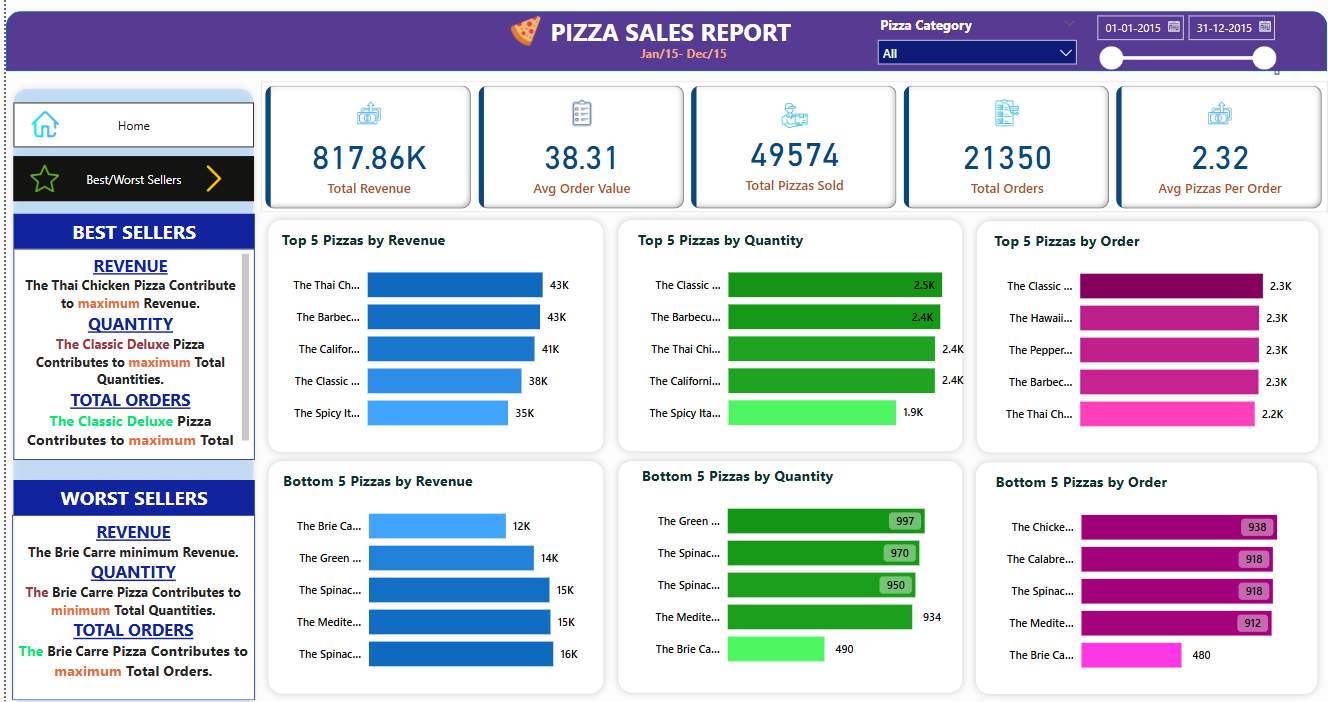

This screenshot's page, from the dashboard's own definition file:
{"tool":"powerbi","page":{"name":"Best/Worst Sellers","canvas":[1500,820],"ordinal":1},"visuals":[{"type":"shape","box":[0,96.1,284.1,706.1],"z":0},{"type":"cardVisual","fields":{"Data":["pizza_sales.Total Revenue","pizza_sales.Avg Order Value","pizza_sales.Total Pizzas Sold","pizza_sales.Total Orders","pizza_sales.Avg Pizzas Per Order"]},"box":[284.3,95.7,1187.1,147.1],"z":1000},{"type":"shape","box":[0,18.1,1472.1,66.8],"z":2000},{"type":"textbox","box":[601.4,18.6,305.7,45.7],"z":3000},{"type":"textbox","box":[674.3,51.4,161.4,32.9],"z":4000},{"type":"image","box":[535.7,18.6,85.7,44.3],"z":5000},{"type":"shape","box":[284.1,242.3,389.9,275.7],"z":6000},{"type":"textbox","box":[8.4,243.7,268.8,39],"z":7000},{"type":"textbox","box":[8.4,282.7,268.8,235.4],"z":8000},{"type":"textbox","box":[7,579.4,270.2,206.1],"z":9000},{"type":"textbox","box":[8.4,540.4,268.8,39],"z":10000},{"type":"slicer","fields":{"Values":["pizza_sales.pizza_category"]},"box":[960.9,18.1,242.3,66.8],"z":11000},{"type":"slicer","fields":{"Values":["pizza_sales.order_date"]},"box":[1203.3,12.5,220,78],"z":12000},{"type":"shape","box":[674.1,242.3,399.7,274.4],"z":13000},{"type":"shape","box":[1073.7,243.7,396.9,274.4],"z":14000},{"type":"shape","box":[284.3,510.8,389.9,275.7],"z":15000},{"type":"shape","box":[674.3,510.8,399.7,274.4],"z":16000},{"type":"shape","box":[1072,512.5,396.9,274.4],"z":17000},{"type":"barChart","title":"Top 5 Pizzas by Revenue","fields":{"Category":["pizza_sales.pizza_name"],"Y":["pizza_sales.Total Revenue"]},"box":[302.2,260.4,351,239.5],"z":18000},{"type":"barChart","title":"Bottom 5 Pizzas by Revenue","fields":{"Category":["pizza_sales.pizza_name"],"Y":["pizza_sales.Total Revenue"]},"box":[303,529,350.5,239.1],"z":19000},{"type":"barChart","title":"Top 5 Pizzas by Quantity","fields":{"Category":["pizza_sales.pizza_name"],"Y":["pizza_sales.Total Pizzas Sold"]},"box":[699.4,260.4,373.4,239.1],"z":20000},{"type":"barChart","title":"Bottom 5 Pizzas by Quantity","fields":{"Category":["pizza_sales.pizza_name"],"Y":["pizza_sales.Total Pizzas Sold"]},"box":[702.7,524.1,350.5,239.1],"z":21000},{"type":"barChart","title":"Top 5 Pizzas by Order","fields":{"Category":["pizza_sales.pizza_name"],"Y":["pizza_sales.Total Orders"]},"box":[1095.8,262.1,350.5,239.1],"z":22000},{"type":"barChart","title":"Bottom 5 Pizzas by Order","fields":{"Category":["pizza_sales.pizza_name"],"Y":["pizza_sales.Total Orders"]},"box":[1097.4,530.7,350.5,239.1],"z":23000},{"type":"pageNavigator","box":[8.4,119.8,268.8,50.1],"z":24000},{"type":"pageNavigator","box":[8.4,179.7,268.8,50.1],"z":25000},{"type":"image","box":[211.7,179.7,40.4,50.1],"z":26000},{"type":"image","box":[23.7,118.4,40.4,51.5],"z":27000},{"type":"image","box":[22.3,179.7,41.8,50.1],"z":28000}]}

Visuals, with their boxes on the page's 1500x820 design canvas (x1, y1, x2, y2). These are canvas units, not pixel positions in the 1328x702 screenshot, which may show the page scaled, cropped or inside an application window:
shape: 0 96 284 802
cardVisual - pizza_sales.Total Revenue x pizza_sales.Avg Order Value: 284 96 1471 243
shape: 0 18 1472 85
textbox: 601 19 907 64
textbox: 674 51 836 84
image: 536 19 621 63
shape: 284 242 674 518
textbox: 8 244 277 283
textbox: 8 283 277 518
textbox: 7 579 277 786
textbox: 8 540 277 579
slicer - pizza_sales.pizza_category: 961 18 1203 85
slicer - pizza_sales.order_date: 1203 12 1423 90
shape: 674 242 1074 517
shape: 1074 244 1471 518
shape: 284 511 674 786
shape: 674 511 1074 785
shape: 1072 512 1469 787
"Top 5 Pizzas by Revenue" barChart: 302 260 653 500
"Bottom 5 Pizzas by Revenue" barChart: 303 529 654 768
"Top 5 Pizzas by Quantity" barChart: 699 260 1073 500
"Bottom 5 Pizzas by Quantity" barChart: 703 524 1053 763
"Top 5 Pizzas by Order" barChart: 1096 262 1446 501
"Bottom 5 Pizzas by Order" barChart: 1097 531 1448 770
pageNavigator: 8 120 277 170
pageNavigator: 8 180 277 230
image: 212 180 252 230
image: 24 118 64 170
image: 22 180 64 230
